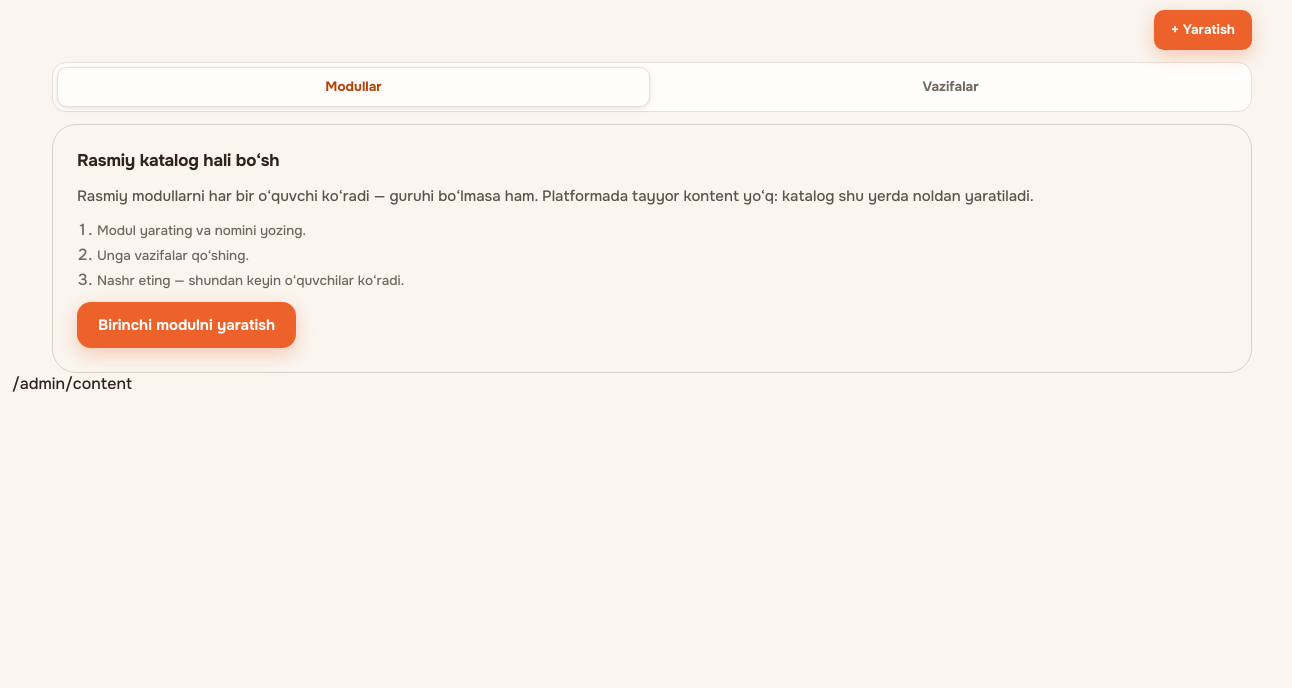
Test case: /admin/content — the empty catalog of a fresh install › explains what an official module is and creates one that starts OFFICIAL
Expected: the heading "Rasmiy katalog hali bo‘sh" is shown, [77,150,279,171]
Expected: the text "Rasmiy modullarni har bir o‘quvchi ko‘radi — guruhi bo‘lmasa ham. Platformada tayyor kontent yo‘q: katalog shu yerda nol" is shown, [77,186,1034,206]
Step 1. Click the button "Birinchi modulni yaratish" → (187, 325), box [77,302,296,348]
(page scrolled)
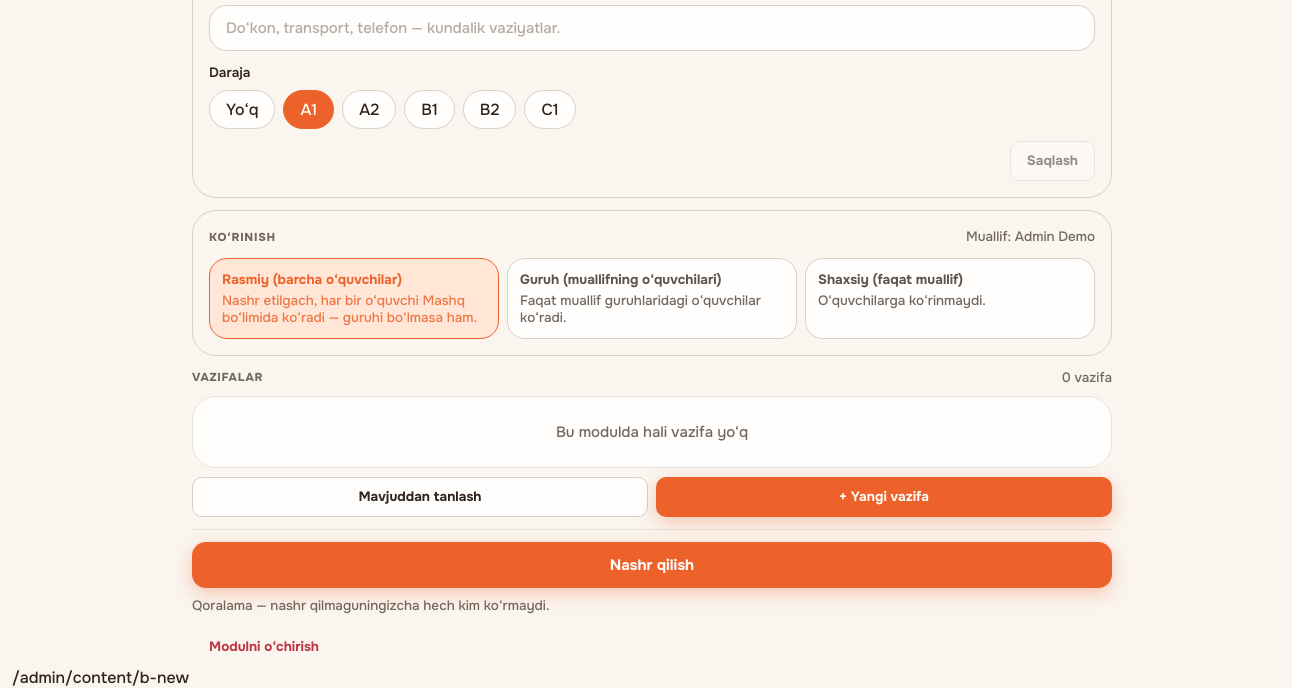
Expected: the text with test id "where" reads "/admin/content/b-new", [12,667,189,687]
